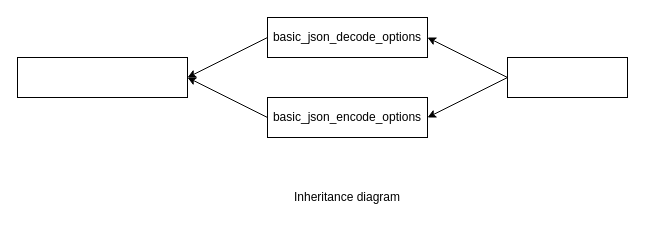
This 645x225 diagram has some shape labels left out. The shapes that lost their labels are listed below. From the top down, each one's centre as x and y in pixels, then its label:
At [102,77]: "basic_json_options_common".
At [567,77]: "basic_json_options".
